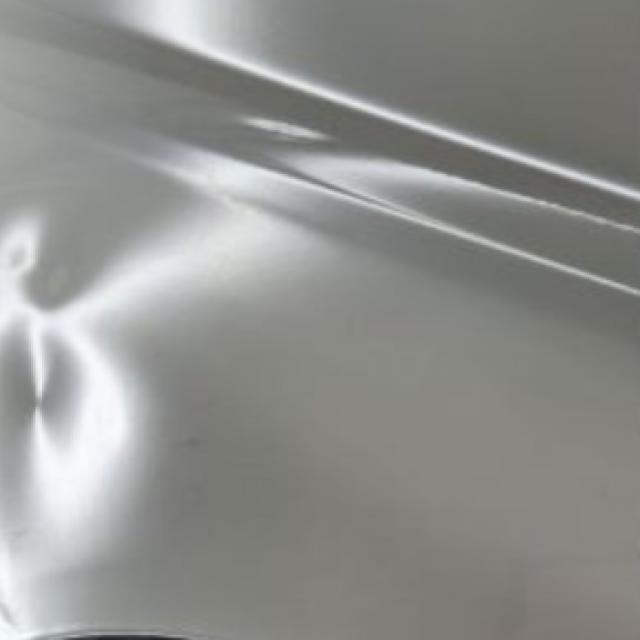dents: (0, 171, 188, 542)
